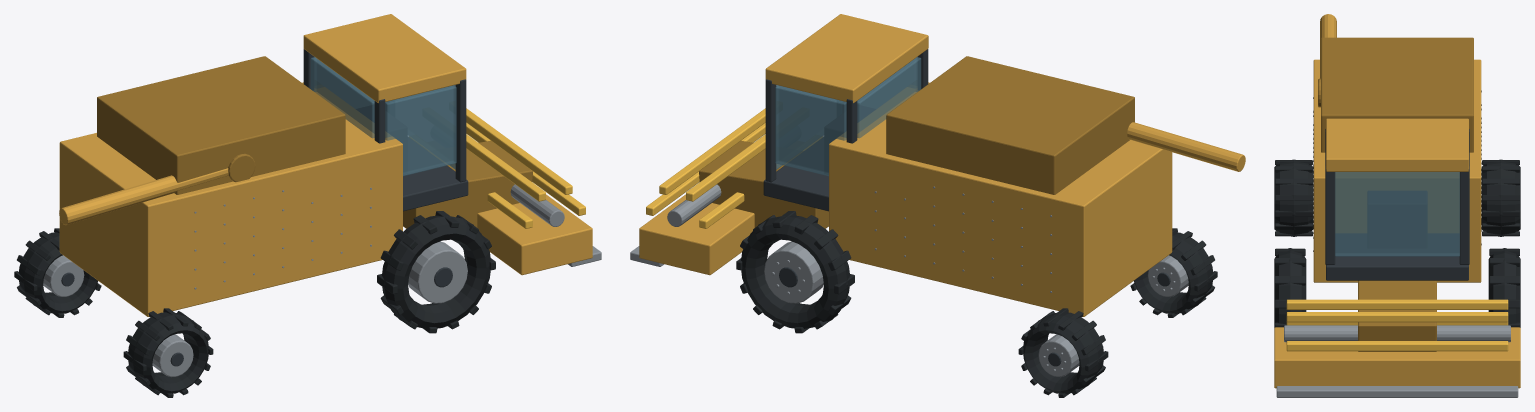
The model's file is case-ih-axial-flow-8250-structural-study.glb.
3 views of the same model, side by side, from view 1: azimuth 30°, elevation 25°; view 2: azimuth 150°, elevation 25°; view 3: azimuth 270°, elevation 25° (orthographic). The views are drawn at different scales.
Visible parts, largest first — view 1: Separator_Main_House, Grain_Tank, Cab_Roof, Front_R_Tire, Header_Backbone, Cab_R_Glass, Feederhouse, Rear_R_Tire, Cab_Floor, Unloader_Auger, Cab_Rear_Glass, Front_R_Rim (+11 smaller); view 2: Separator_Main_House, Grain_Tank, Cab_Roof, Front_L_Tire, Header_Backbone, Cab_L_Glass, Feederhouse, Rear_L_Tire, Cab_Floor, Cab_Rear_Glass, Rear_R_Tire, Front_L_Rim (+10 smaller); view 3: Grain_Tank, Cab_Front_Glass, Separator_Main_House, Header_Backbone, Cab_Roof, Cab_Floor, Operator_Seat, Feederhouse, Cutterbar, Reel_Bat_1, Reel_Bat_2, Reel_Bat_3 (+13 smaller).
Boxes of the visible parts, box(x1,y1,x2,y2) form: Separator_Main_House: box(59, 82, 402, 316); Grain_Tank: box(97, 56, 345, 194); Cab_Roof: box(303, 14, 466, 103); Front_R_Tire: box(382, 215, 490, 328); Header_Backbone: box(477, 194, 592, 275); Cab_R_Glass: box(385, 85, 456, 176); Feederhouse: box(403, 140, 532, 228); Rear_R_Tire: box(128, 312, 208, 393); Cab_Floor: box(403, 137, 468, 211); Unloader_Auger: box(59, 168, 228, 225); Cab_Rear_Glass: box(310, 57, 374, 138); Front_R_Rim: box(408, 241, 467, 303); Separator_Main_House: box(829, 82, 1172, 316); Grain_Tank: box(886, 56, 1134, 194); Cab_Roof: box(765, 14, 928, 103); Front_L_Tire: box(741, 215, 849, 328); Header_Backbone: box(639, 194, 754, 275); Cab_L_Glass: box(775, 85, 846, 176); Feederhouse: box(699, 140, 828, 228); Rear_L_Tire: box(1023, 312, 1103, 393); Cab_Floor: box(763, 137, 828, 211); Cab_Rear_Glass: box(857, 57, 921, 138); Rear_R_Tire: box(1134, 232, 1213, 313); Front_L_Rim: box(764, 241, 823, 303); Grain_Tank: box(1321, 37, 1473, 152); Cab_Front_Glass: box(1335, 172, 1459, 256); Separator_Main_House: box(1313, 59, 1481, 282); Header_Backbone: box(1274, 327, 1520, 388); Cab_Roof: box(1326, 118, 1468, 171); Cab_Floor: box(1326, 234, 1468, 280); Operator_Seat: box(1368, 191, 1426, 247); Feederhouse: box(1358, 280, 1436, 351); Cutterbar: box(1276, 386, 1518, 397); Reel_Bat_1: box(1286, 341, 1508, 351); Reel_Bat_2: box(1286, 312, 1508, 322); Reel_Bat_3: box(1286, 299, 1508, 309).
Size of the model in its own units: 9 by 3.9 by 3.96.
